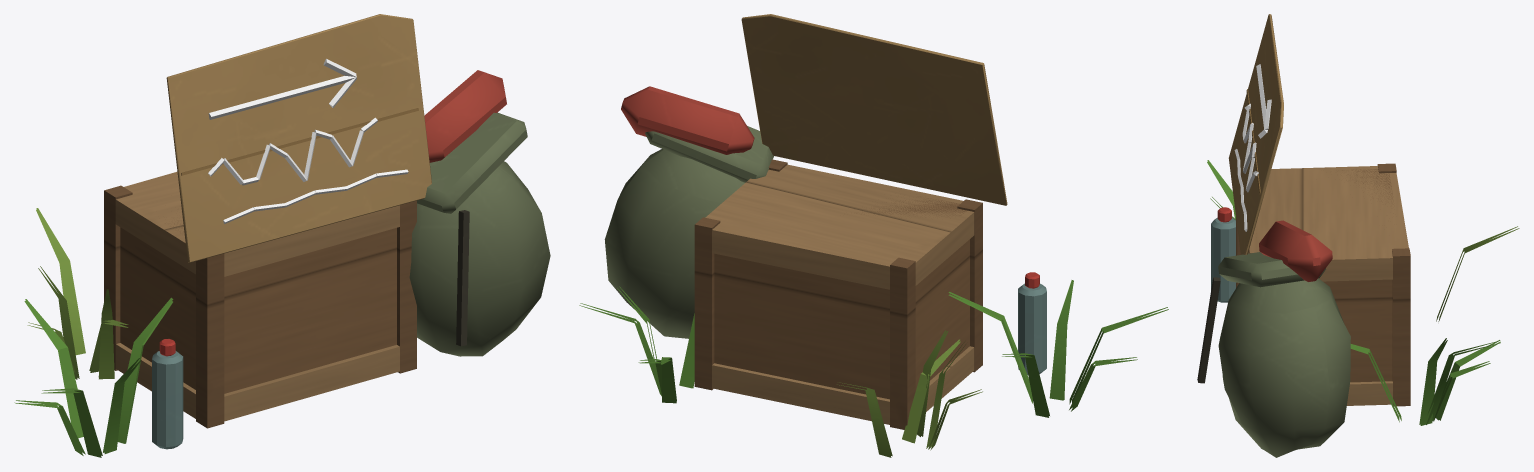
The model's file is hitchhiker_sign.glb.
The picture shows the model from 3 angles, left to right: view 1: azimuth 30°, elevation 25°; view 2: azimuth 150°, elevation 25°; view 3: azimuth 270°, elevation 25°; orthographic projection. The views are drawn at different scales.
Visible parts, largest first — view 1: hitchhiker_sign; view 2: hitchhiker_sign; view 3: hitchhiker_sign.
Boxes of the visible parts, x1=… form: hitchhiker_sign: x1=14, y1=14, x2=550, y2=457; hitchhiker_sign: x1=579, y1=14, x2=1168, y2=457; hitchhiker_sign: x1=1197, y1=14, x2=1519, y2=457.
Bounding box in the file's own units: 1.38 × 0.8625 × 0.8166.
Materials: 13 (13 with a texture image).
